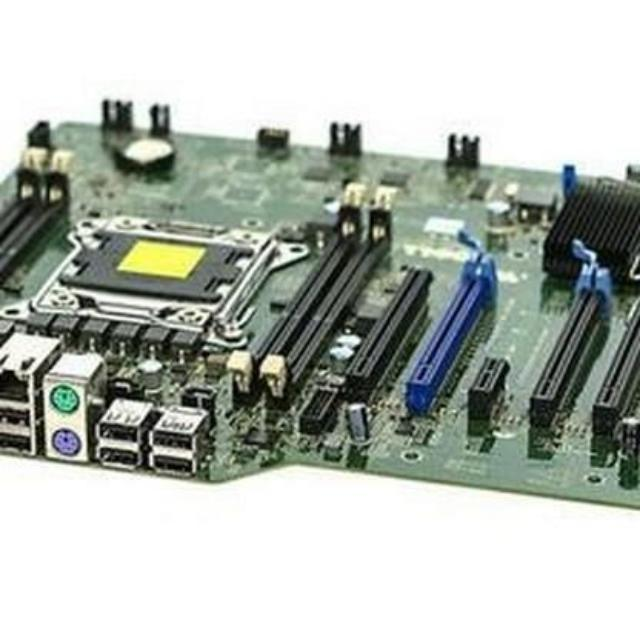Mainboard: (0, 100, 640, 514)
